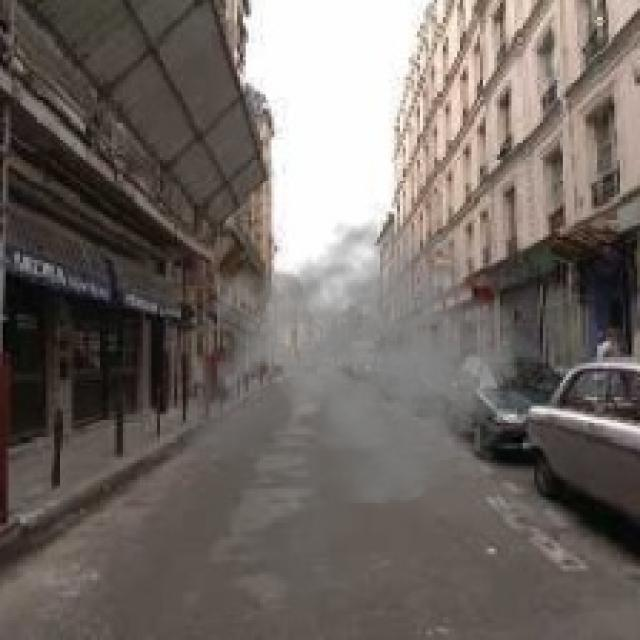Smoke: (171, 212, 543, 608)
